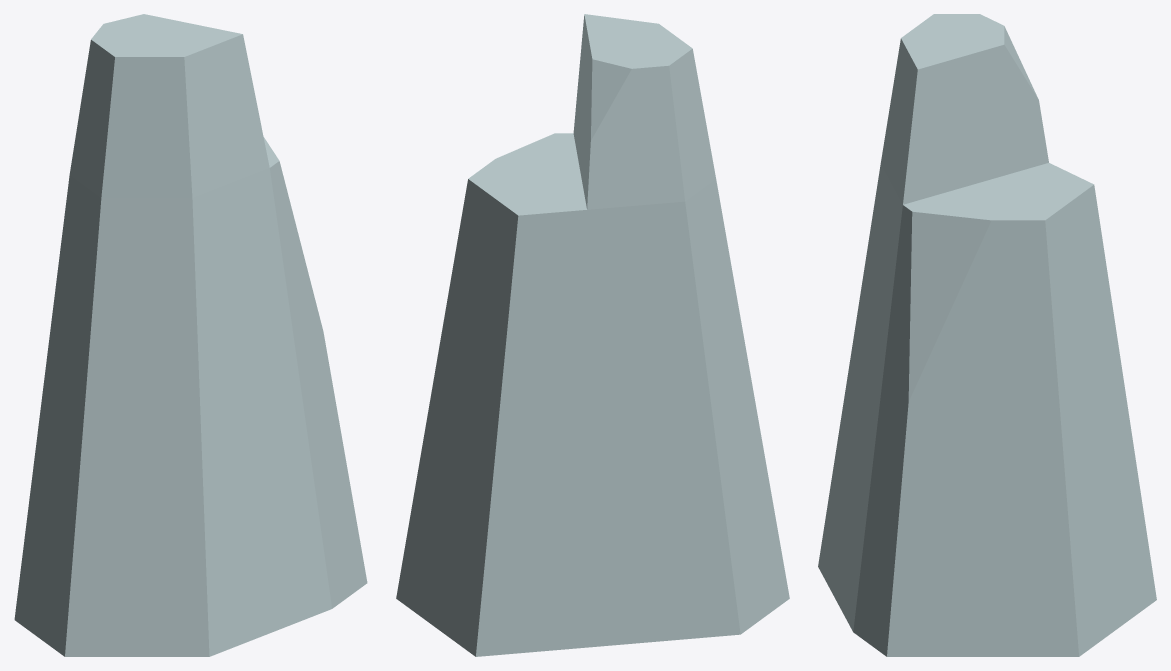
The model's file is stone_tallI.glb.
The picture shows the model from 3 angles, left to right: view 1: azimuth 30°, elevation 25°; view 2: azimuth 150°, elevation 25°; view 3: azimuth 270°, elevation 25°; orthographic projection. The views are drawn at different scales.
Visible parts, largest first — view 1: stone_tallI; view 2: stone_tallI; view 3: stone_tallI.
Boxes of the visible parts, x1,y1,x2,y2 form: stone_tallI: [14, 14, 367, 656]; stone_tallI: [396, 14, 789, 656]; stone_tallI: [818, 14, 1156, 656].
Size of the model in its own units: 0.4562 by 0.8118 by 0.4644.
